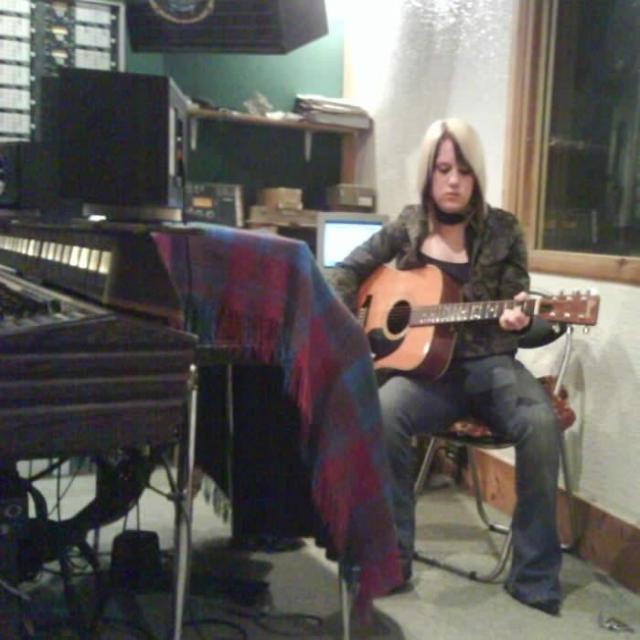guitar: (345, 260, 608, 385)
